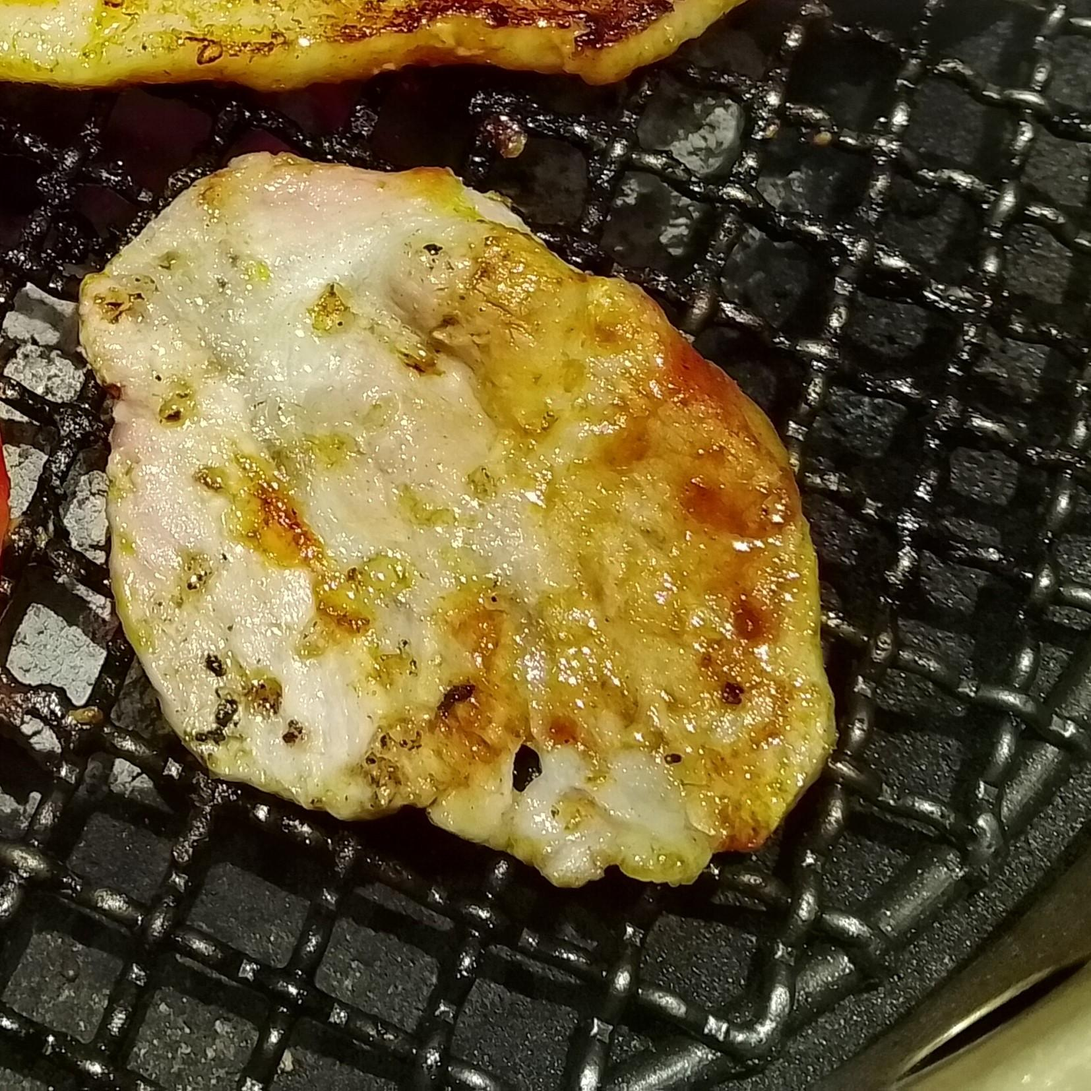Well-Cooked: (80, 154, 833, 886)
